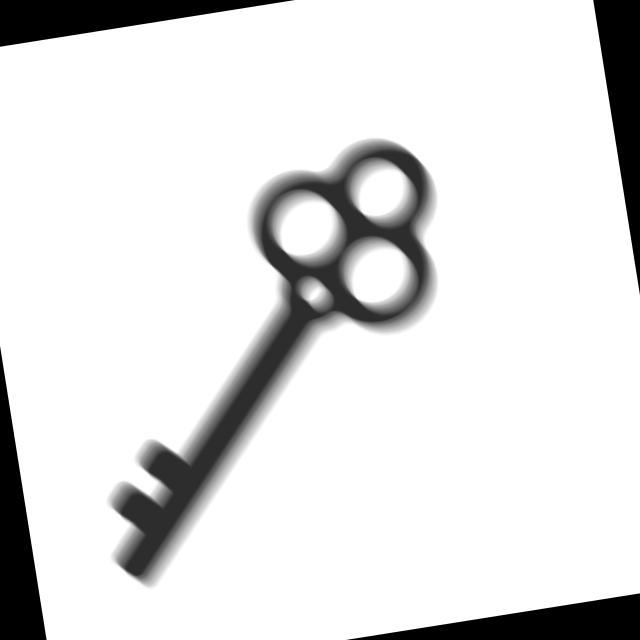key: (44, 124, 502, 607)
